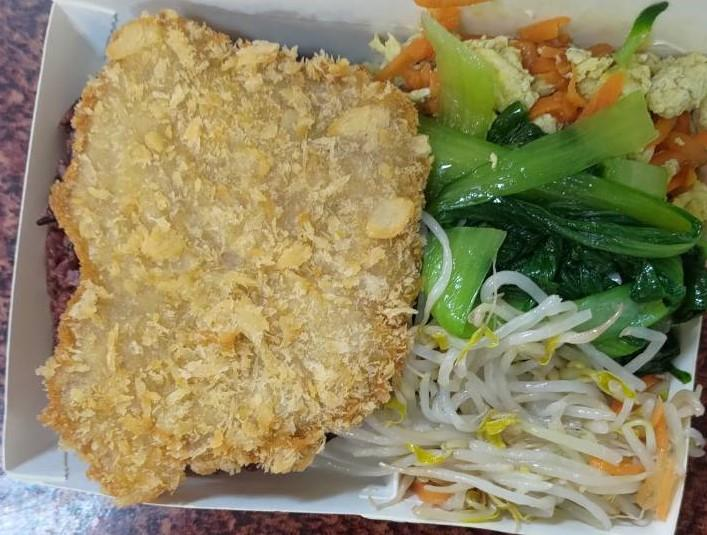big grilled chicken leg: (8, 0, 702, 533)
braised fish: (57, 8, 374, 479)
braised fish fillet: (417, 109, 699, 347), (400, 314, 699, 521), (417, 19, 699, 187)
braised pork: (50, 20, 417, 490)
